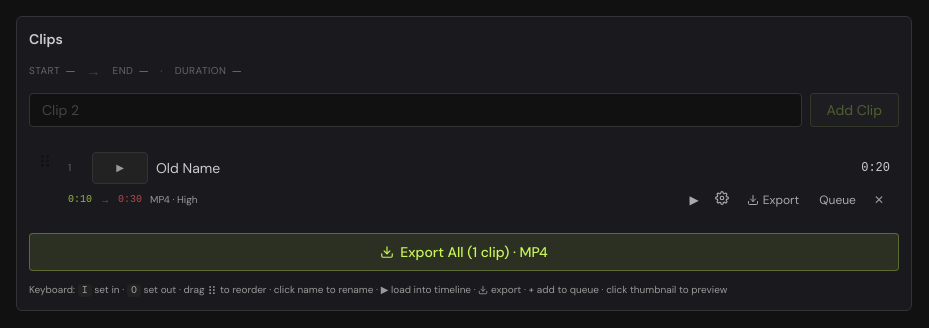
Test case: ClipList — inline rename › reverts to original name on Escape
Click the button titled "Click to rename". click: [188, 168]
box: [156, 158, 853, 178]
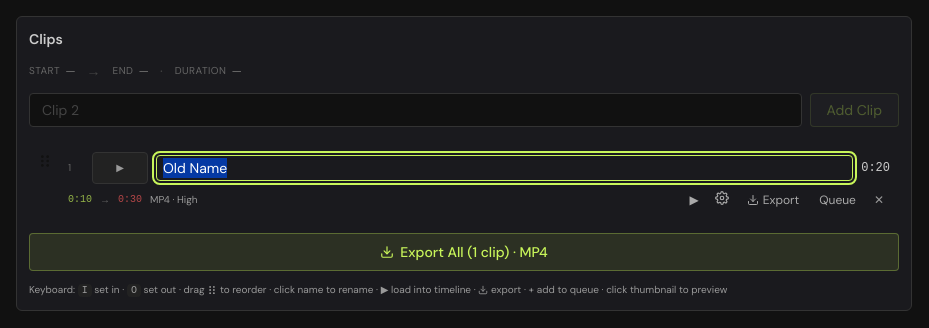
Replace the text in the field showing "Old Name" with "Oops". click: [505, 168]
box: [156, 155, 853, 181]
Then press Escape
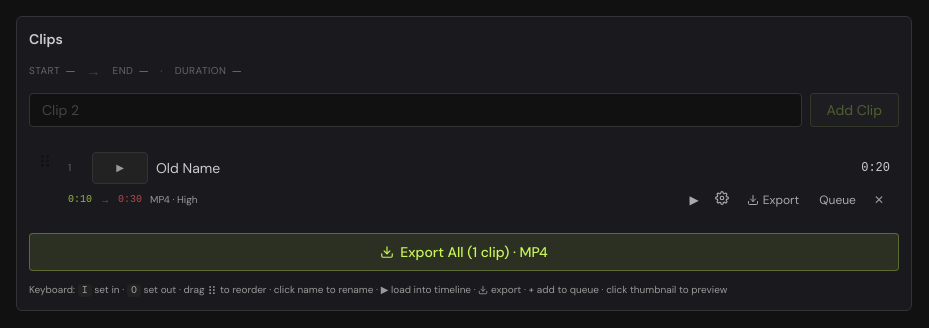
Expected: the button titled "Click to rename" reads "Old Name", [156, 158, 853, 178]
